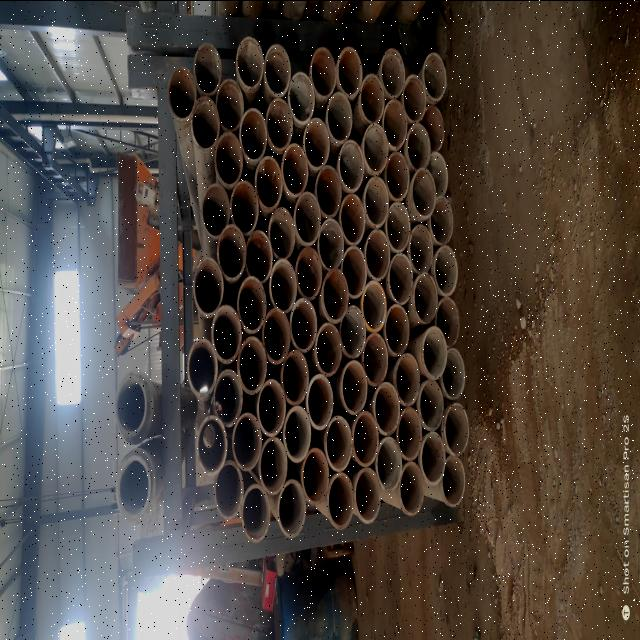pipe: (115, 367, 151, 439), (116, 450, 152, 521), (210, 303, 242, 365), (200, 182, 232, 244), (278, 477, 308, 541), (188, 338, 218, 402), (215, 223, 248, 281), (238, 273, 268, 333), (234, 34, 264, 94), (214, 368, 244, 426), (192, 256, 222, 314), (242, 484, 270, 546), (214, 459, 242, 519), (198, 415, 226, 475), (232, 414, 260, 474), (270, 256, 298, 316), (267, 206, 297, 262), (230, 178, 258, 238), (259, 379, 287, 438), (236, 337, 266, 392), (354, 466, 382, 524), (352, 410, 380, 468), (314, 162, 342, 220), (265, 96, 293, 154), (324, 88, 352, 146), (335, 42, 363, 100), (254, 155, 284, 209), (167, 64, 194, 124), (302, 446, 328, 506), (314, 324, 344, 376), (244, 231, 274, 282), (284, 409, 312, 463), (262, 308, 290, 362), (296, 247, 323, 303), (302, 118, 330, 172), (192, 98, 220, 152), (286, 69, 314, 123), (328, 474, 354, 532), (400, 460, 426, 518), (363, 330, 389, 388), (264, 39, 290, 97), (326, 415, 352, 471), (307, 376, 333, 432), (394, 352, 420, 408), (282, 350, 308, 406), (322, 270, 348, 326), (410, 167, 436, 223), (214, 134, 242, 186), (337, 140, 365, 192), (194, 40, 220, 96), (376, 434, 402, 488), (310, 42, 336, 96), (422, 326, 447, 382), (413, 272, 438, 328), (429, 192, 454, 248), (444, 402, 469, 458), (260, 441, 286, 494), (241, 109, 267, 162), (281, 143, 307, 196), (382, 99, 408, 152), (342, 360, 368, 412), (434, 296, 460, 348), (365, 229, 391, 281), (358, 74, 384, 126), (340, 306, 367, 356), (295, 193, 320, 247), (422, 104, 446, 160), (374, 383, 399, 436), (339, 192, 364, 245), (442, 345, 466, 400), (362, 334, 387, 386), (290, 300, 316, 350), (384, 302, 409, 354), (360, 279, 385, 331), (342, 246, 366, 300), (388, 254, 412, 308), (434, 244, 458, 298), (217, 81, 244, 129), (442, 454, 466, 508), (420, 432, 444, 484), (398, 408, 422, 460), (420, 380, 444, 432), (318, 218, 344, 266), (408, 223, 432, 275), (364, 176, 388, 228), (406, 122, 430, 174), (382, 45, 406, 97), (423, 46, 447, 98), (386, 200, 410, 250), (386, 152, 410, 202), (404, 74, 426, 128), (425, 152, 449, 198), (365, 125, 387, 172)
